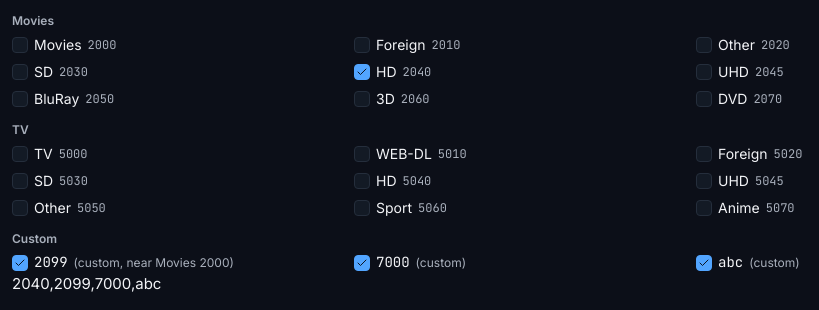
Test: the category picker › lists a number the indexer reports as Custom, says which family it is near, and can clear it
Expected: the text "Custom" is shown, [12, 231, 57, 246]
Expected: the text "(custom, near Movies 2000)" is shown, [74, 254, 234, 272]
Click the checkbox labelled "2099 (custom, near Movies 2000)". click: (20, 262)
box: [12, 254, 28, 270]
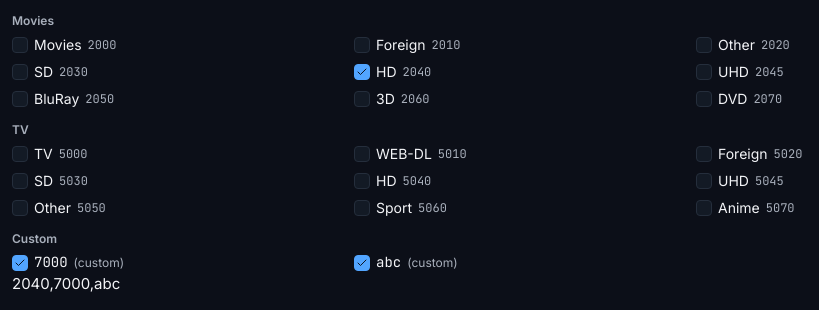
Expected: the text with test id "value" reads "2040,7000,abc", [12, 274, 120, 293]
